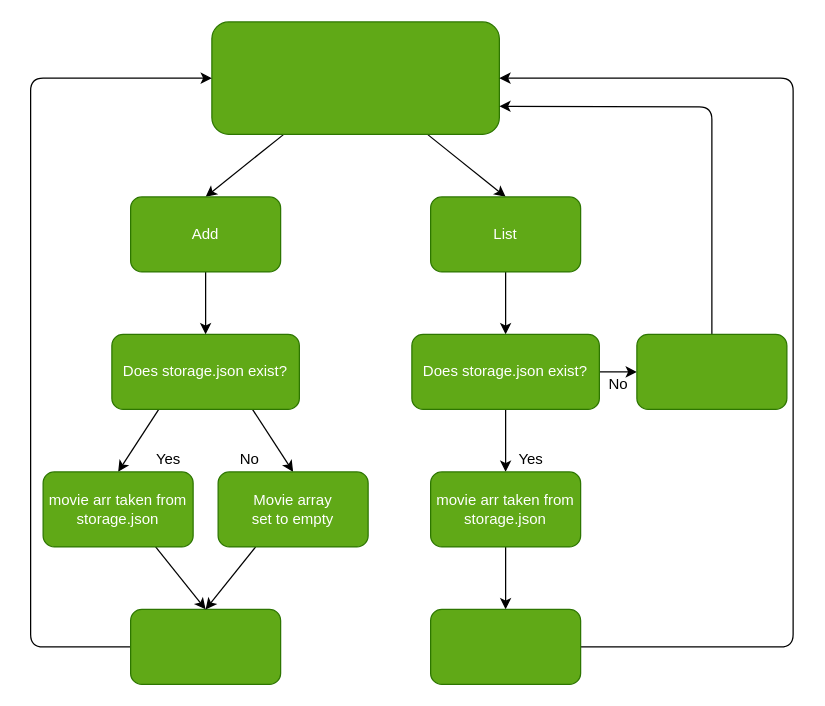
Some shapes in this 825 by 706 pixel diagram are drawn without their labels. The centre of each missing label's shape, as x and y in pixels:
addMovie(): the point at 205,646
listMovies(): the point at 505,646
message "please add data to list": the point at 711,371
Terminal - Command type: the point at 355,77
